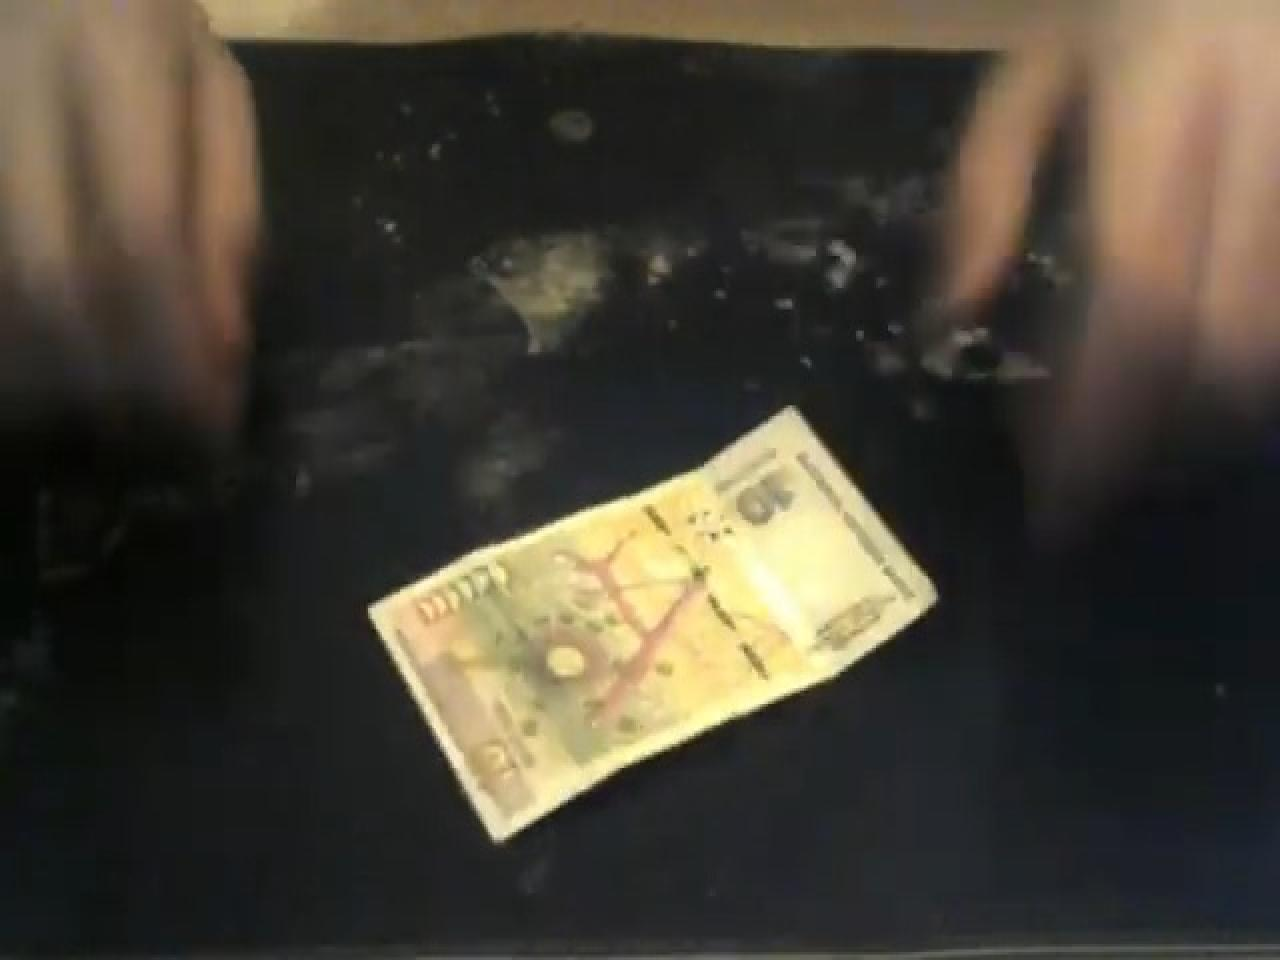10leva: (364, 399, 940, 845)
